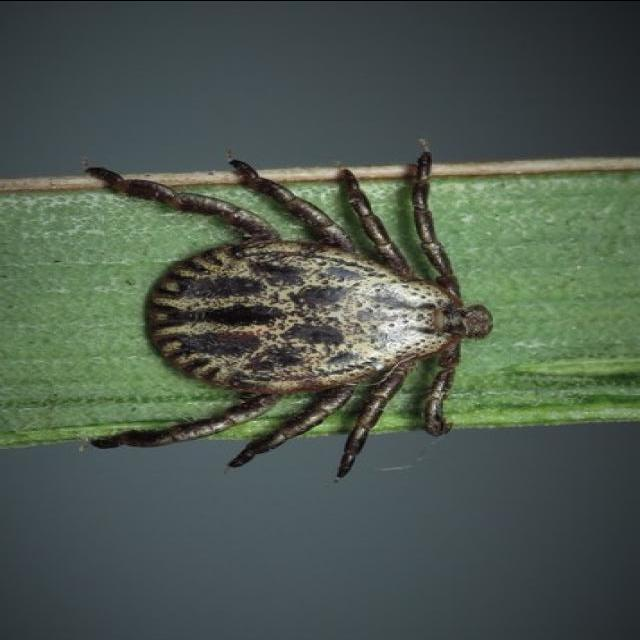Dermacentor Reticulatus-M: (88, 151, 491, 479)
